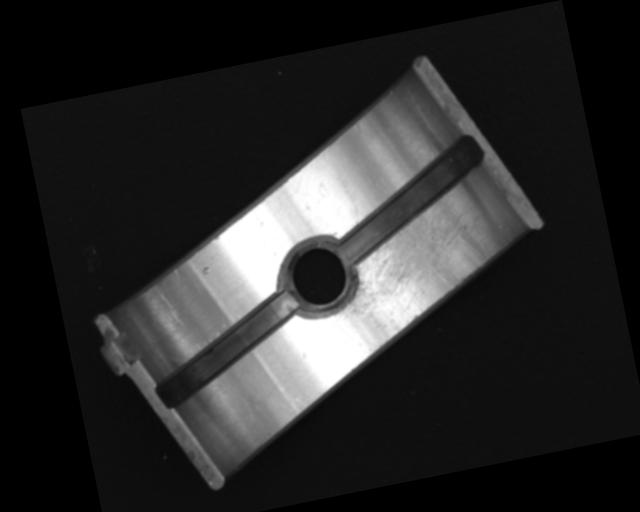bruise: (200, 265, 212, 276)
gap: (325, 134, 495, 263), (144, 289, 311, 409)
hole: (277, 232, 360, 323)
nick: (153, 282, 184, 331)
scratch: (320, 191, 493, 351)
